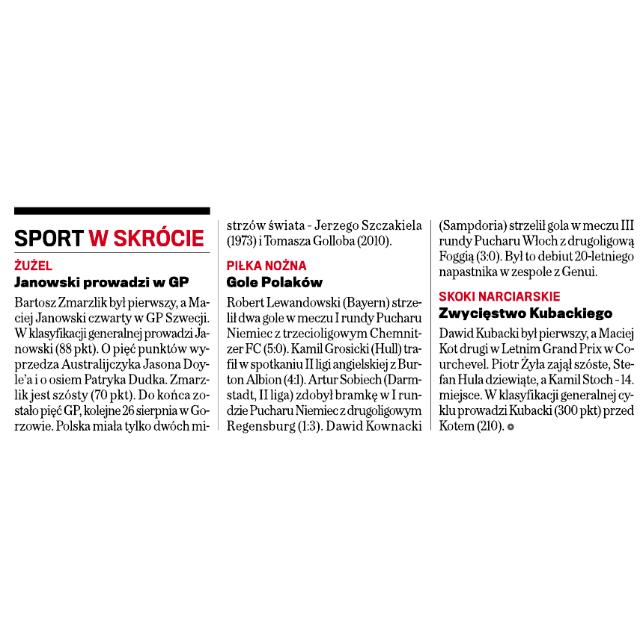body: (222, 211, 426, 435), (434, 210, 638, 434), (6, 253, 212, 434)
title: (10, 215, 208, 249)
